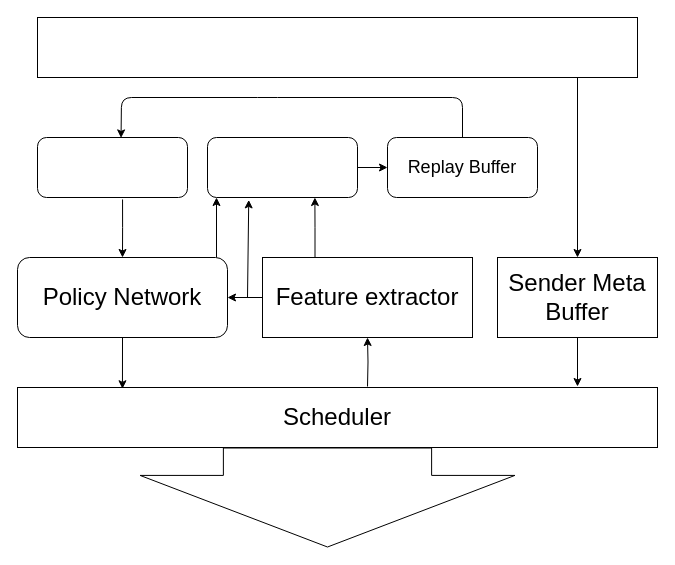
Image size: 675x565. Some labels were removed from this diagram. Here are the shapes that lost their labels. From the top down, the centre of each, then its label:
At point 337,47: "APP".
At point 112,167: "Trainer".
At point 282,167: "Collector".
